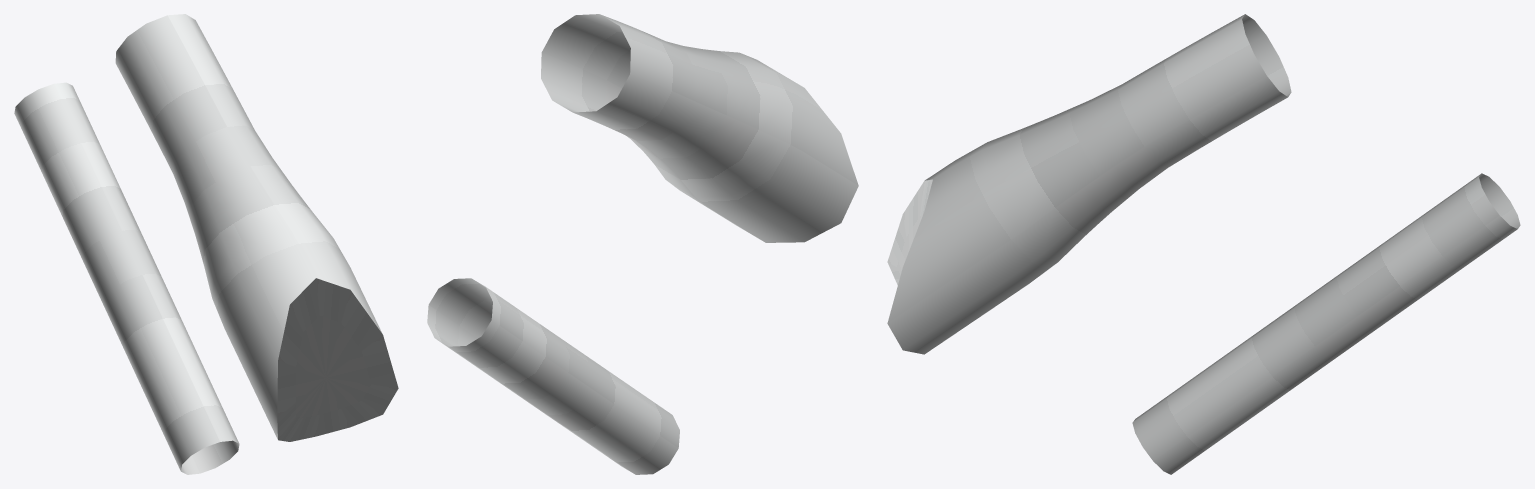
The model's file is luminairearm_truss10ftdouble_c0_pedestal.obj.
3 views of the same model, side by side, from view 1: azimuth 30°, elevation 25°; view 2: azimuth 150°, elevation 25°; view 3: azimuth 270°, elevation 25° (orthographic). The views are drawn at different scales.
Parts seen in each view (by area): view 1: luminairearm_truss10ftdouble_c0_pedestal; view 2: luminairearm_truss10ftdouble_c0_pedestal; view 3: luminairearm_truss10ftdouble_c0_pedestal.
Boxes of the visible parts, bbox=[...] form: luminairearm_truss10ftdouble_c0_pedestal: bbox=[14, 14, 398, 474]; luminairearm_truss10ftdouble_c0_pedestal: bbox=[427, 14, 858, 474]; luminairearm_truss10ftdouble_c0_pedestal: bbox=[887, 14, 1520, 474].
Size of the model in its own units: 0.3375 by 1.15 by 1.47.
